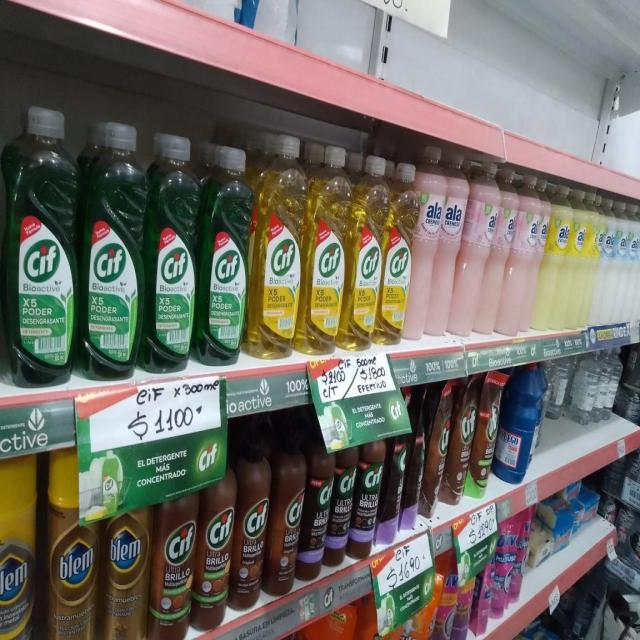ala_crem_amarillo: (539, 183, 570, 333), (569, 189, 594, 331)
ala_crem_blanco: (594, 198, 616, 328), (615, 206, 629, 326), (628, 207, 640, 326)
ala_crem_rosado: (458, 159, 501, 340), (504, 173, 540, 337), (411, 142, 440, 342), (436, 148, 462, 340)
cif_conc_bot_amarilla: (251, 132, 302, 361), (303, 140, 345, 356), (347, 151, 381, 351), (382, 157, 411, 347)
cif_conc_botella_verde: (5, 102, 78, 388), (80, 116, 142, 380), (144, 129, 198, 372), (199, 142, 248, 365)
magistral_con_amarillo: (0, 457, 37, 640)
